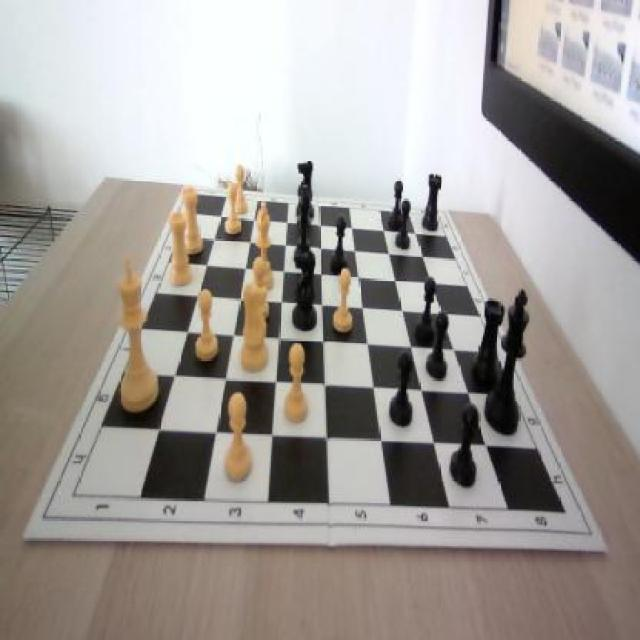bishop: (294, 186, 314, 266)
black-bishop: (483, 286, 530, 437)
black-king: (289, 245, 318, 332), (296, 158, 314, 218)
black-knight: (449, 404, 481, 494), (390, 352, 416, 430), (424, 310, 450, 382), (414, 278, 438, 342), (329, 214, 349, 268), (395, 200, 411, 252), (388, 180, 404, 229)
black-queen: (472, 297, 505, 392), (422, 174, 442, 231)
black-rook: (254, 202, 274, 288)
white-bishop: (115, 255, 161, 414)
white-king: (238, 283, 271, 378)
white-knight: (223, 394, 255, 484), (282, 343, 309, 425), (196, 291, 222, 363), (331, 270, 353, 336), (249, 258, 271, 322), (222, 182, 242, 234), (232, 164, 248, 216)
white-queen: (179, 188, 206, 256), (168, 214, 192, 288)
